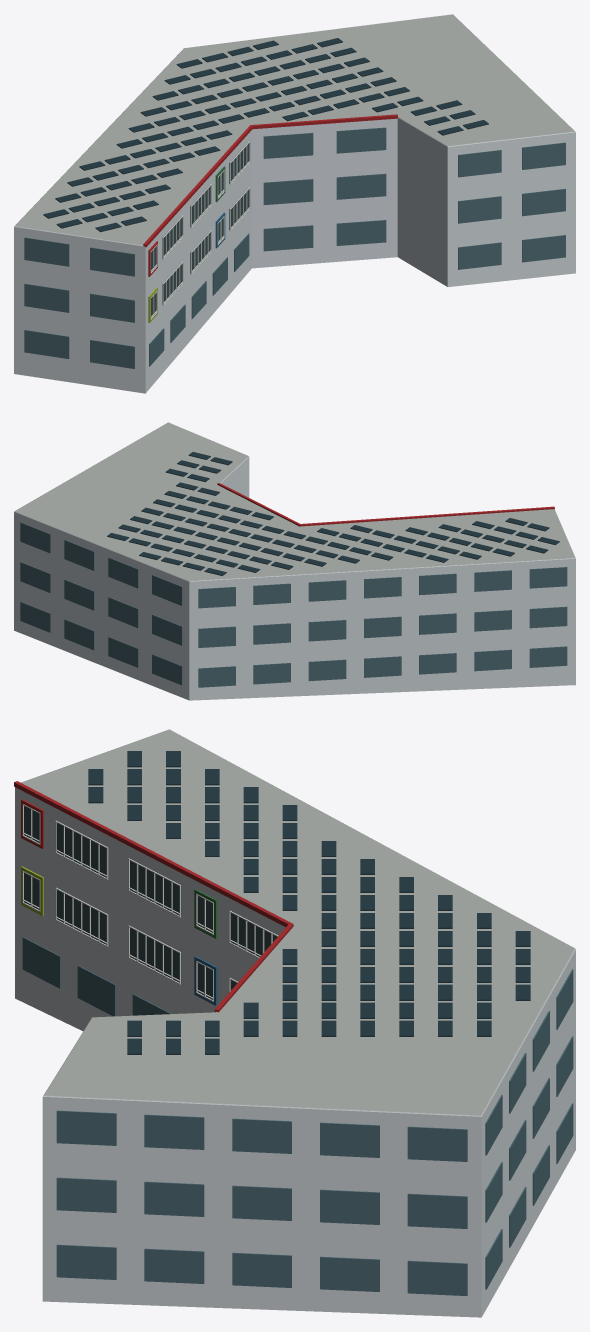
File: fragments.glb
3 views of the same model, one above another, from view 1: azimuth 30°, elevation 25°; view 2: azimuth 150°, elevation 25°; view 3: azimuth 270°, elevation 25° (orthographic). The views are drawn at different scales.
Visible parts, largest first — view 1: SM_473684409_Fragment_003, SM_473684409_Fragment_032, SM_473684409_Fragment_014, SM_473684409_Fragment_040, SM_473684409_Fragment_017, SM_473684409_Fragment_024, SM_473684409_Fragment_022, SM_473684409_Fragment_059, SM_473684409_Fragment_033, SM_473684409_Fragment_028, SM_473684409_Fragment_054, SM_473684409_Fragment_007 (+27 smaller); view 2: SM_473684409_Fragment_010, SM_473684409_Fragment_007, SM_473684409_Fragment_056, SM_473684409_Fragment_017, SM_473684409_Fragment_019, SM_473684409_Fragment_034, SM_473684409_Fragment_025, SM_473684409_Fragment_016, SM_473684409_Fragment_062, SM_473684409_Fragment_011, SM_473684409_Fragment_018, SM_473684409_Fragment_012 (+25 smaller); view 3: SM_473684409_Fragment_044, SM_473684409_Fragment_032, SM_473684409_Fragment_009, SM_473684409_Fragment_040, SM_473684409_Fragment_047, SM_473684409_Fragment_052, SM_473684409_Fragment_033, SM_473684409_Fragment_007, SM_473684409_Fragment_045, SM_473684409_Fragment_008, SM_473684409_Fragment_021, SM_473684409_Fragment_003 (+26 smaller).
Part boxes in pixels (bbox=[...]): SM_473684409_Fragment_003: bbox=[69, 262, 182, 393]; SM_473684409_Fragment_032: bbox=[500, 103, 575, 236]; SM_473684409_Fragment_014: bbox=[399, 155, 507, 274]; SM_473684409_Fragment_040: bbox=[82, 191, 193, 276]; SM_473684409_Fragment_017: bbox=[14, 186, 98, 292]; SM_473684409_Fragment_024: bbox=[331, 87, 438, 183]; SM_473684409_Fragment_022: bbox=[234, 97, 341, 190]; SM_473684409_Fragment_059: bbox=[14, 278, 88, 384]; SM_473684409_Fragment_033: bbox=[143, 112, 397, 247]; SM_473684409_Fragment_028: bbox=[436, 217, 565, 286]; SM_473684409_Fragment_054: bbox=[319, 164, 402, 260]; SM_473684409_Fragment_007: bbox=[53, 145, 194, 196]; SM_473684409_Fragment_010: bbox=[173, 619, 290, 700]; SM_473684409_Fragment_007: bbox=[382, 517, 493, 617]; SM_473684409_Fragment_056: bbox=[278, 554, 372, 657]; SM_473684409_Fragment_017: bbox=[474, 530, 575, 608]; SM_473684409_Fragment_019: bbox=[474, 600, 567, 687]; SM_473684409_Fragment_034: bbox=[108, 585, 191, 693]; SM_473684409_Fragment_025: bbox=[346, 545, 432, 662]; SM_473684409_Fragment_016: bbox=[253, 642, 364, 697]; SM_473684409_Fragment_062: bbox=[192, 548, 268, 621]; SM_473684409_Fragment_011: bbox=[239, 534, 338, 624]; SM_473684409_Fragment_018: bbox=[16, 556, 86, 650]; SM_473684409_Fragment_012: bbox=[128, 542, 204, 621]; SM_473684409_Fragment_044: bbox=[144, 1089, 302, 1223]; SM_473684409_Fragment_032: bbox=[42, 1060, 154, 1241]; SM_473684409_Fragment_009: bbox=[42, 1209, 220, 1307]; SM_473684409_Fragment_040: bbox=[15, 760, 184, 893]; SM_473684409_Fragment_047: bbox=[358, 1181, 491, 1317]; SM_473684409_Fragment_052: bbox=[204, 1188, 359, 1311]; SM_473684409_Fragment_033: bbox=[14, 781, 357, 1012]; SM_473684409_Fragment_007: bbox=[152, 778, 352, 861]; SM_473684409_Fragment_045: bbox=[128, 853, 266, 1012]; SM_473684409_Fragment_008: bbox=[374, 1084, 502, 1205]; SM_473684409_Fragment_021: bbox=[296, 1095, 420, 1245]; SM_473684409_Fragment_003: bbox=[15, 821, 106, 1001].
Bounding box in the file's own units: 2.2 × 0.5748 × 1.35.
